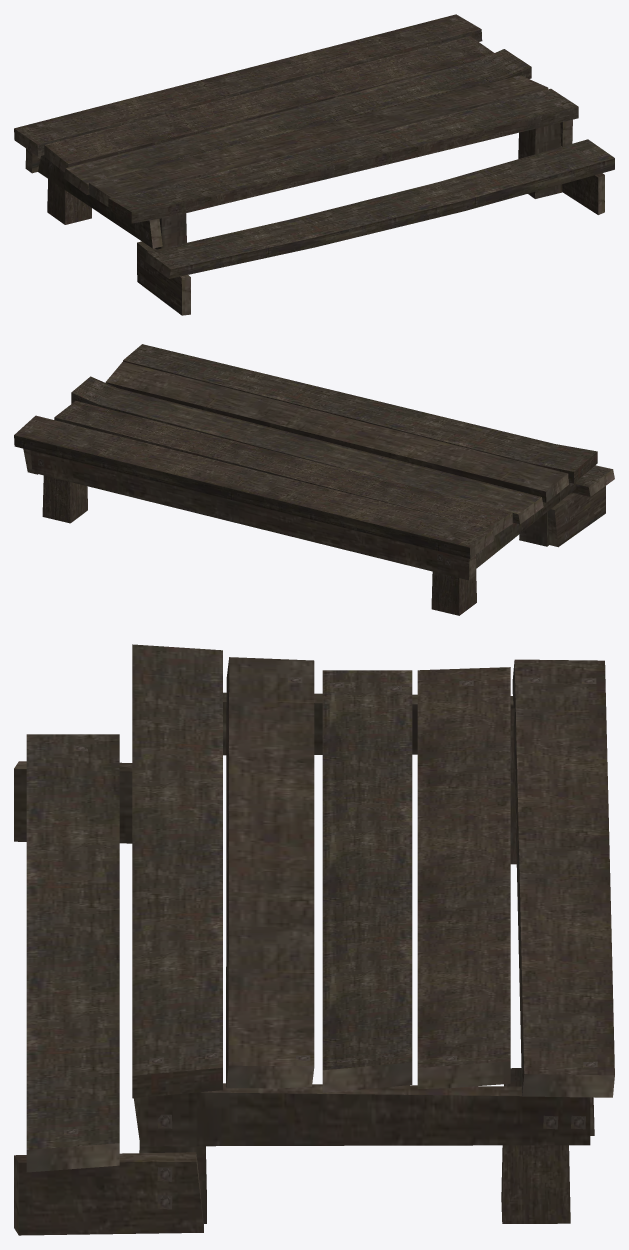
File: eso_gu13_WoodStep-transformed.glb
3 renders of one model, top to bottom at view 1: azimuth 30°, elevation 25°; view 2: azimuth 150°, elevation 25°; view 3: azimuth 270°, elevation 25°, orthographic. The views are drawn at different scales.
Visible parts, largest first — view 1: default; view 2: default; view 3: default.
Boxes of the visible parts, x1=… form: default: x1=14, y1=14, x2=614, y2=315; default: x1=14, y1=344, x2=614, y2=615; default: x1=14, y1=644, x2=614, y2=1235.
Bounding box in the file's own units: 3.58 × 0.67 × 2.1.
1 material, 1 textured.
